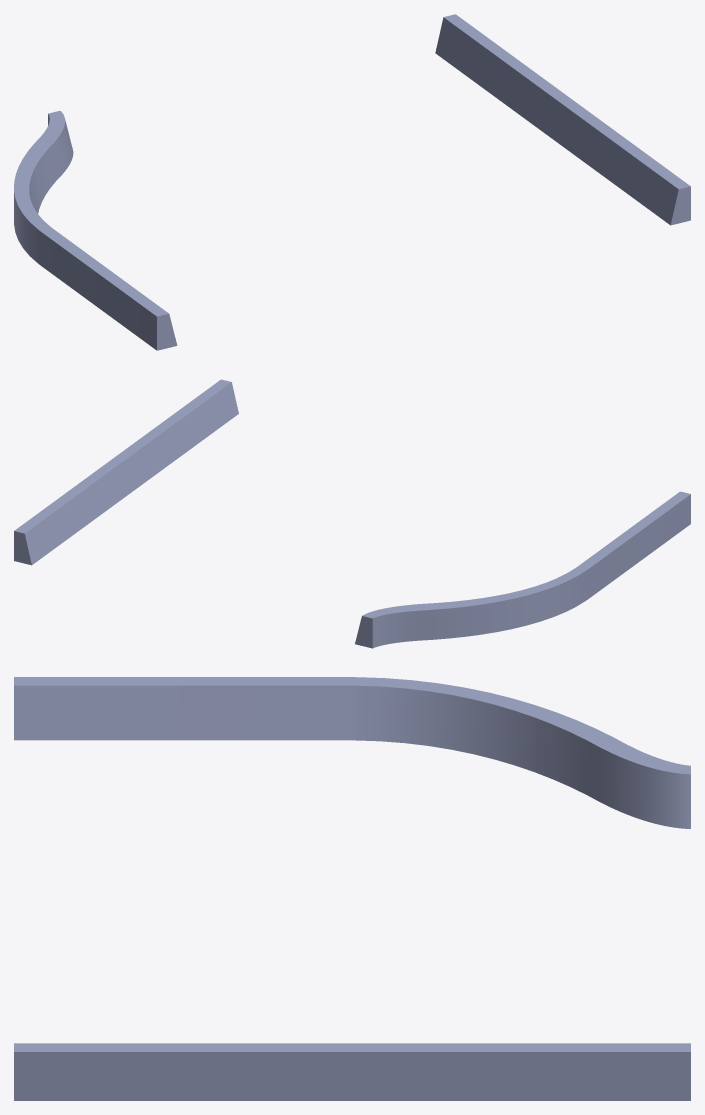
Rendered from road-side-entry-barrier.glb.
The picture shows the model from 3 angles, top to bottom: view 1: azimuth 30°, elevation 25°; view 2: azimuth 150°, elevation 25°; view 3: azimuth 270°, elevation 25°; orthographic projection. The views are drawn at different scales.
Parts seen in each view (by area): view 1: road-side-entry-barrier; view 2: road-side-entry-barrier; view 3: road-side-entry-barrier.
Boxes of the visible parts, box(x1,y1,x2,y2) form: road-side-entry-barrier: box(14, 14, 690, 350); road-side-entry-barrier: box(14, 379, 690, 648); road-side-entry-barrier: box(14, 677, 690, 1100).
Size of the model in its own units: 1.31 by 0.08 by 1.
Materials: 1 (1 with a texture image).
